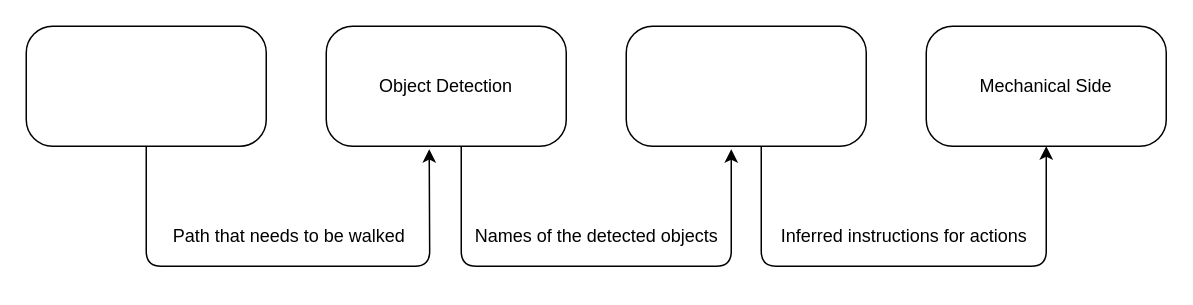
This 1193x305 diagram has some shape labels left out. The centre of each missing label's shape, as x and y in pixels:
Knowledge Graph: the point at 745,85
Path Planning: the point at 145,85
